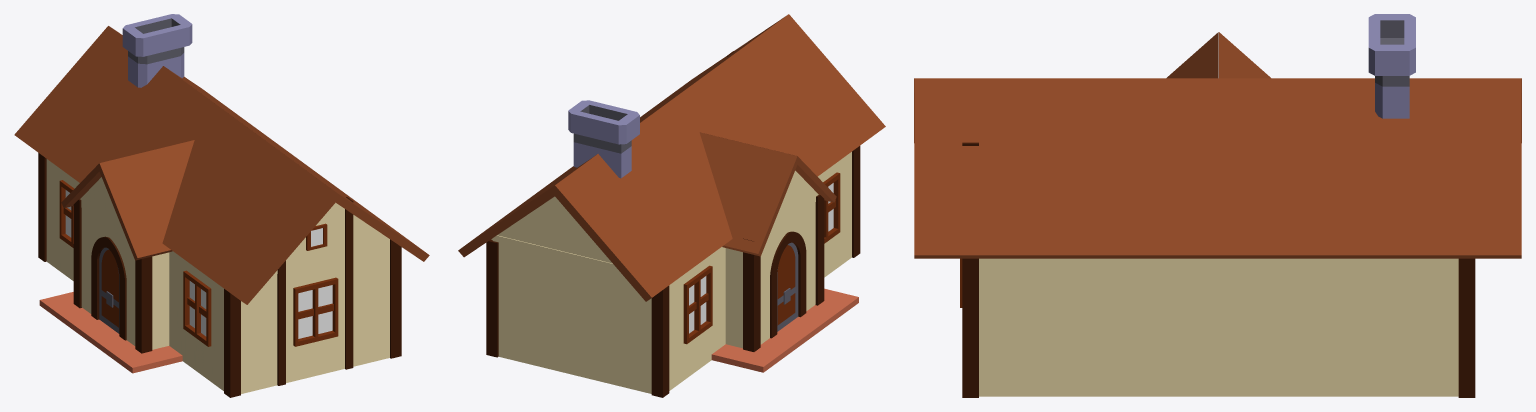
Rendered from house.fbx.
The picture shows the model from 3 angles, left to right: view 1: azimuth 30°, elevation 25°; view 2: azimuth 150°, elevation 25°; view 3: azimuth 270°, elevation 25°; orthographic projection. The views are drawn at different scales.
Parts seen in each view (by area): view 1: roof_halfLarge (×4), wall (×11), block (×7), window_wide (×3), doorway_arch, chimney_top, porch_floorCenter (×4), door, window_small; view 2: roof_halfLarge (×4), wall (×10), block (×5), doorway_arch, chimney_top, porch_floorCenter (×4), window_wide (×2), door; view 3: roof_halfLarge (×3), wall (×6), block (×2), chimney_top.
Part boxes in pixels (box(x1,y1,x2,y2)): roof_halfLarge (×4): box(14, 26, 429, 304); wall (×11): box(46, 159, 389, 393); block (×7): box(38, 153, 401, 397); window_wide (×3): box(59, 180, 338, 346); doorway_arch: box(81, 208, 135, 345); chimney_top: box(122, 14, 192, 87); porch_floorCenter (×4): box(39, 292, 182, 373); door: box(99, 247, 119, 333); window_small: box(306, 223, 327, 250); roof_halfLarge (×4): box(458, 14, 885, 301); wall (×10): box(493, 152, 851, 393); block (×5): box(486, 146, 860, 397); doorway_arch: box(760, 202, 815, 344); chimney_top: box(568, 100, 639, 178); porch_floorCenter (×4): box(711, 288, 858, 372); window_wide (×2): box(683, 172, 840, 344); door: box(777, 242, 798, 331); roof_halfLarge (×3): box(914, 32, 1521, 258); wall (×6): box(979, 258, 1458, 396); block (×2): box(962, 258, 1475, 397); chimney_top: box(1368, 14, 1415, 118).
Size of the model in its own units: 42.88 by 41.5 by 73.46.
